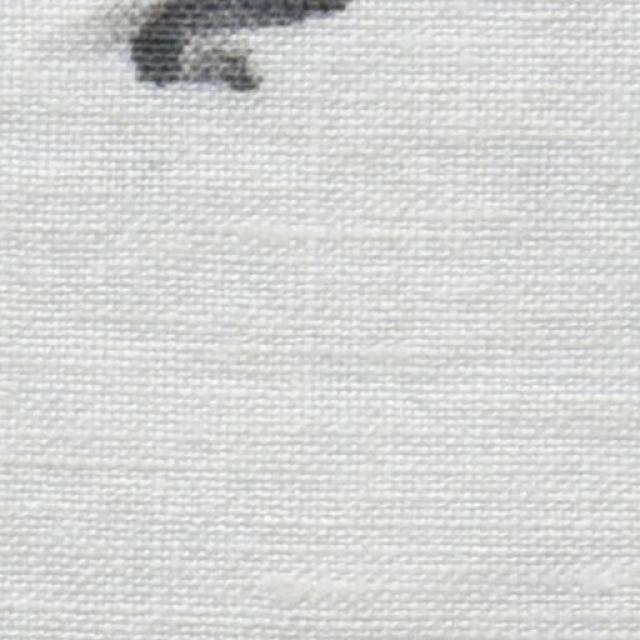Stain: (102, 0, 350, 89)
